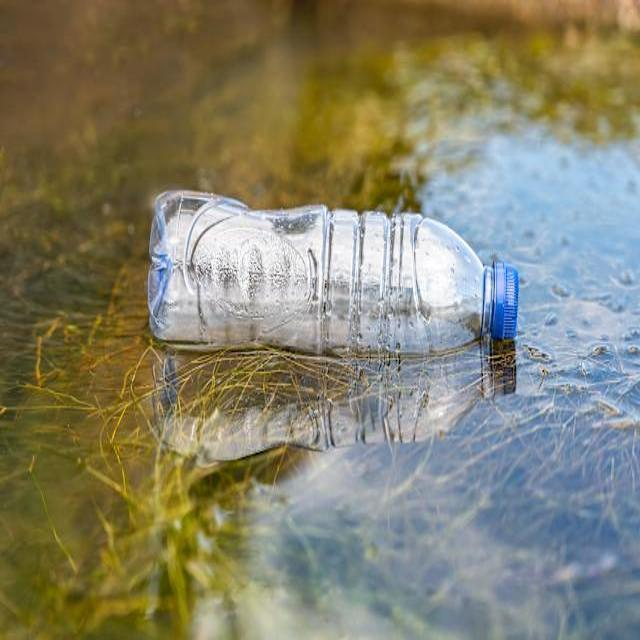bottle: (145, 188, 521, 361)
